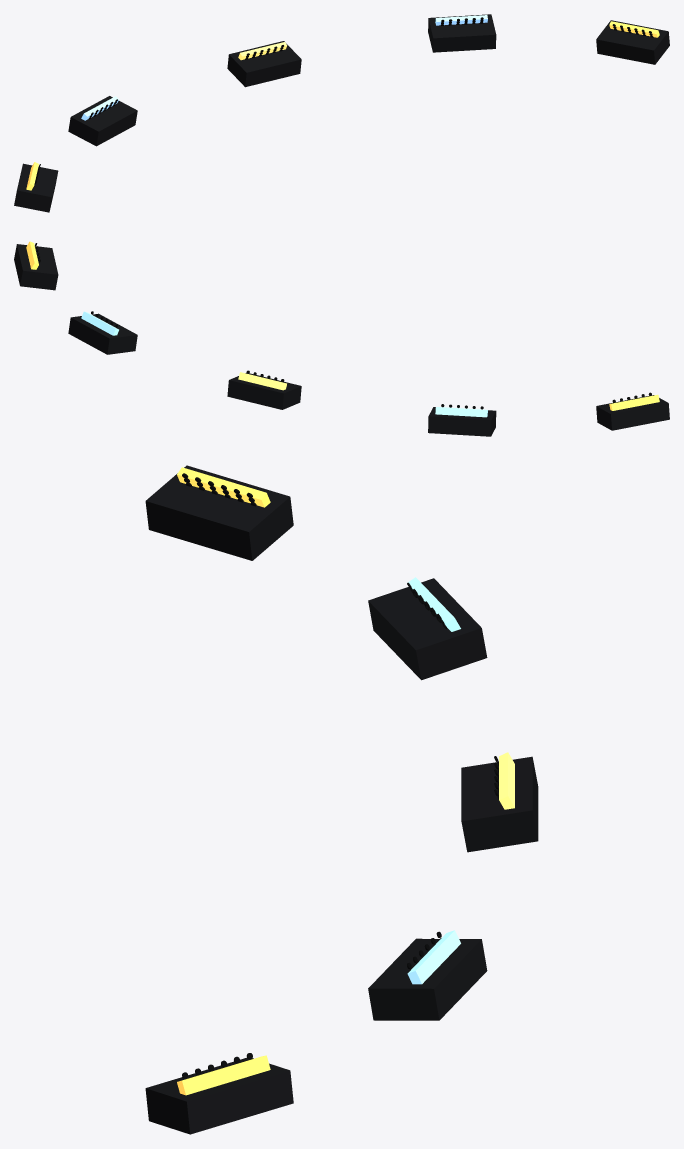
File: floor-lamps.glb
3 renders of one model, top to bottom at view 1: azimuth 30°, elevation 25°; view 2: azimuth 150°, elevation 25°; view 3: azimuth 270°, elevation 25°, orthographic. The views are drawn at different scales.
Visible parts, largest first — view 1: lamp_body (×5), colored_lens (×3); view 2: lamp_body (×5), colored_lens (×4); view 3: lamp_body (×5), colored_lens (×3).
Part boxes in pixels (x1=…): lamp_body (×5): x1=14, y1=14, x2=669, y2=212; colored_lens (×3): x1=238, y1=15, x2=659, y2=60; lamp_body (×5): x1=14, y1=244, x2=669, y2=436; colored_lens (×4): x1=81, y1=311, x2=659, y2=417; lamp_body (×5): x1=145, y1=465, x2=538, y2=1134; colored_lens (×3): x1=177, y1=467, x2=460, y2=1095.
Bounding box in the file's own units: 5.24 × 0.201 × 1.36.
